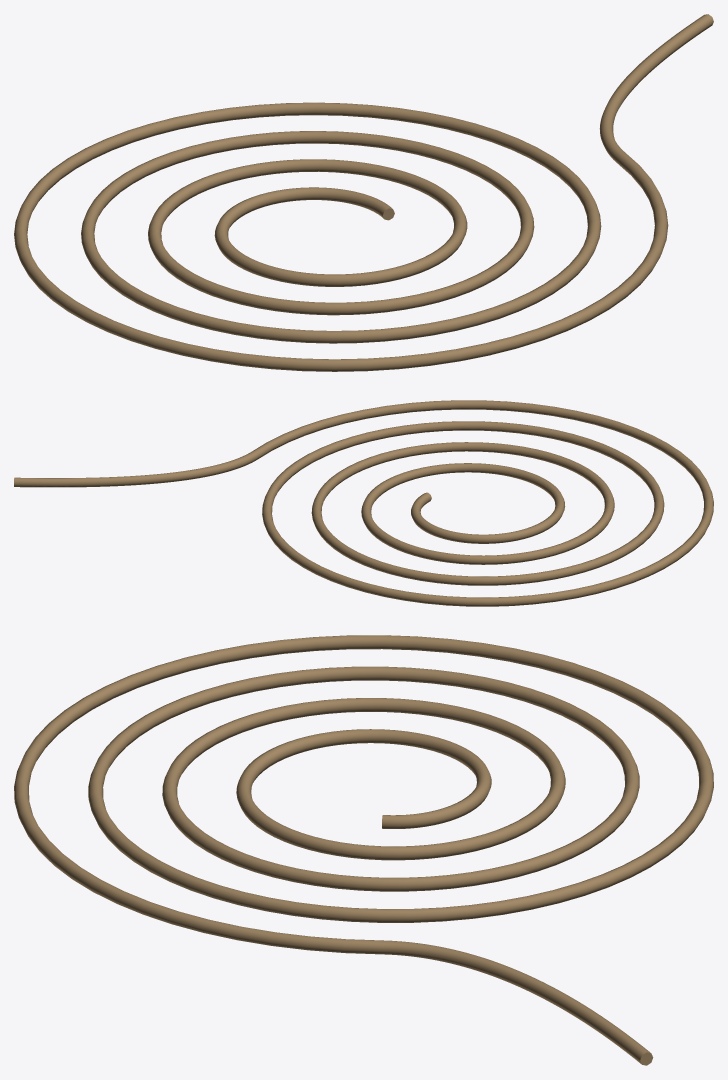
Rendered from rope-coil-v02.glb.
3 views of the same model, one above another, from view 1: azimuth 30°, elevation 25°; view 2: azimuth 150°, elevation 25°; view 3: azimuth 270°, elevation 25° (orthographic). The views are drawn at different scales.
Parts seen in each view (by area): view 1: SM_HarbourRopeCoilV02; view 2: SM_HarbourRopeCoilV02; view 3: SM_HarbourRopeCoilV02.
Part boxes in pixels (x1=…): SM_HarbourRopeCoilV02: x1=14, y1=14, x2=713, y2=371; SM_HarbourRopeCoilV02: x1=14, y1=400, x2=713, y2=606; SM_HarbourRopeCoilV02: x1=14, y1=635, x2=713, y2=1065.
Bounding box in the file's own units: 0.6041 × 0.009 × 0.424.
